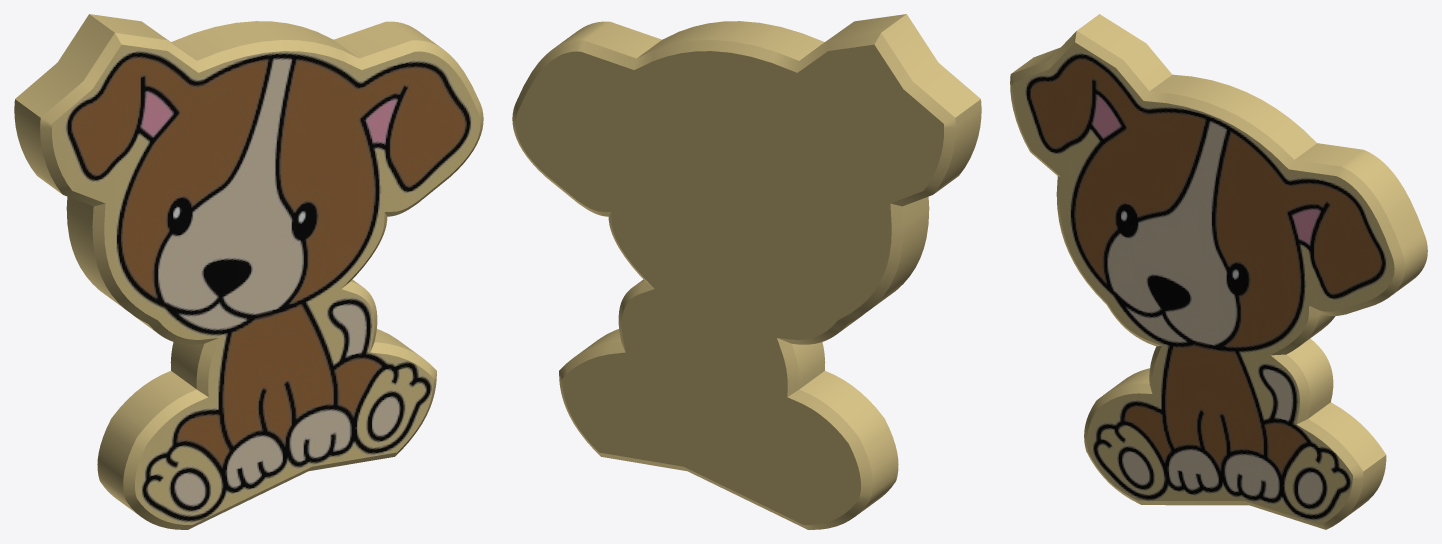
3 views of the same model, side by side, from view 1: azimuth 30°, elevation 25°; view 2: azimuth 150°, elevation 25°; view 3: azimuth 330°, elevation 25° (orthographic). The views are drawn at different scales.
Parts seen in each view (by area): view 1: Path-pict, Path-bg; view 2: Path-bg; view 3: Path-pict, Path-bg.
Part boxes in pixels (bbox=[...]): Path-pict: bbox=[52, 44, 480, 524]; Path-bg: bbox=[14, 14, 483, 529]; Path-bg: bbox=[512, 14, 981, 529]; Path-pict: bbox=[1013, 42, 1394, 524]; Path-bg: bbox=[1010, 14, 1427, 529].
Bounding box in the file's own units: 746 × 828 × 100.
2 materials, 2 textured.
